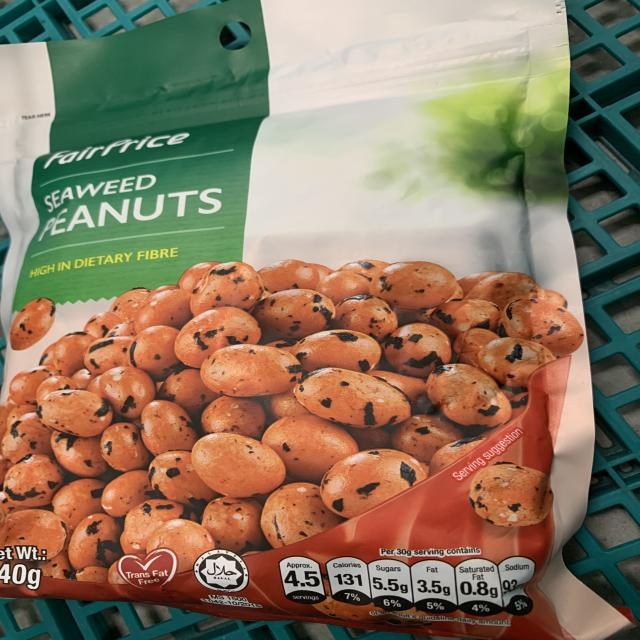object_name: (0, 16, 597, 637)
